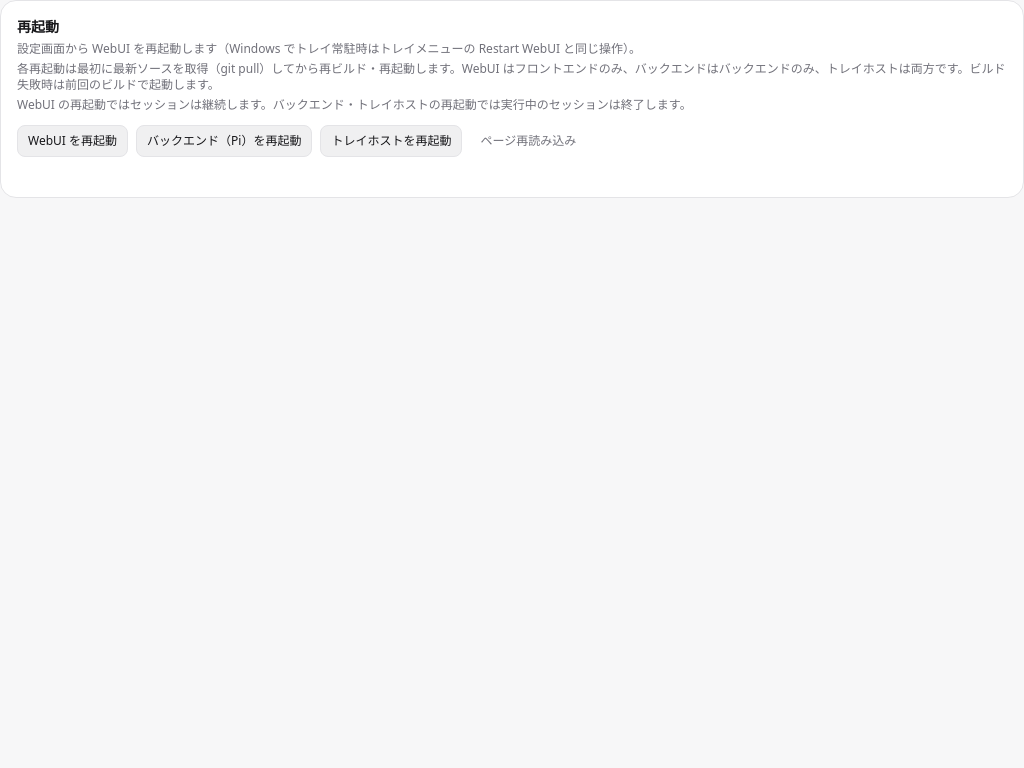
Test: HostRestartPanel › 確認文は最新ソース取得を案内する
Expected: the text "最初に最新ソースを取得" is shown, [17,60,1006,93]
Click the button "WebUI を再起動". click: (72, 141)
box: [17,125,128,157]
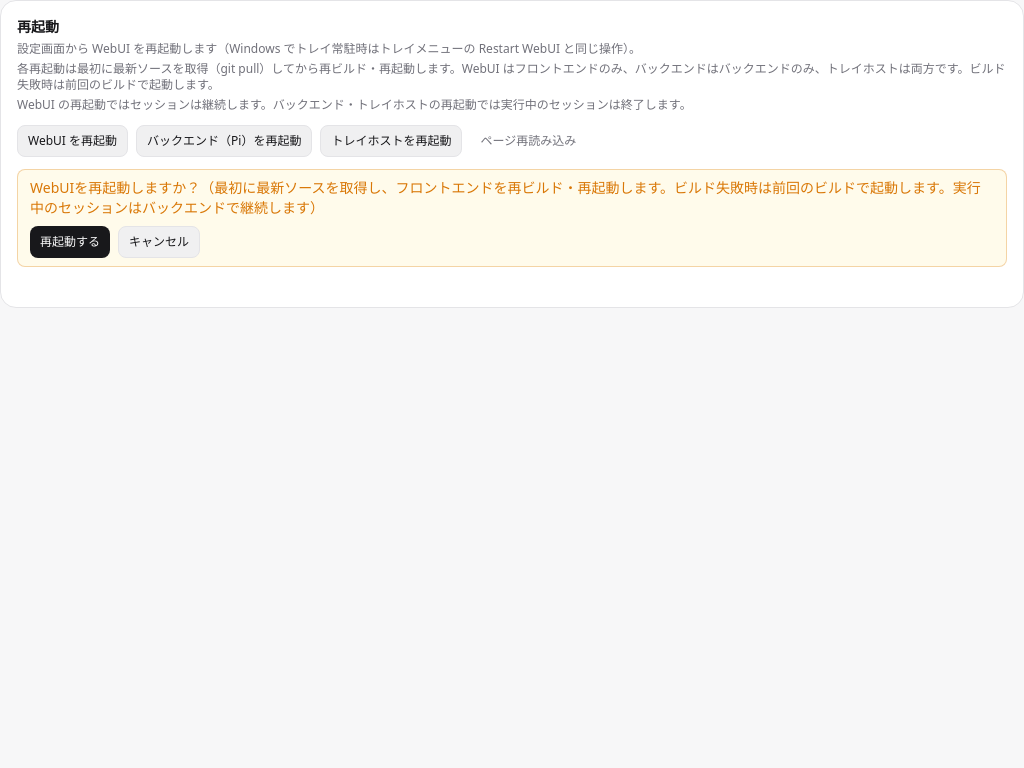
Expected: the dialog shows "最初に最新ソースを取得", [30,178,981,217]
